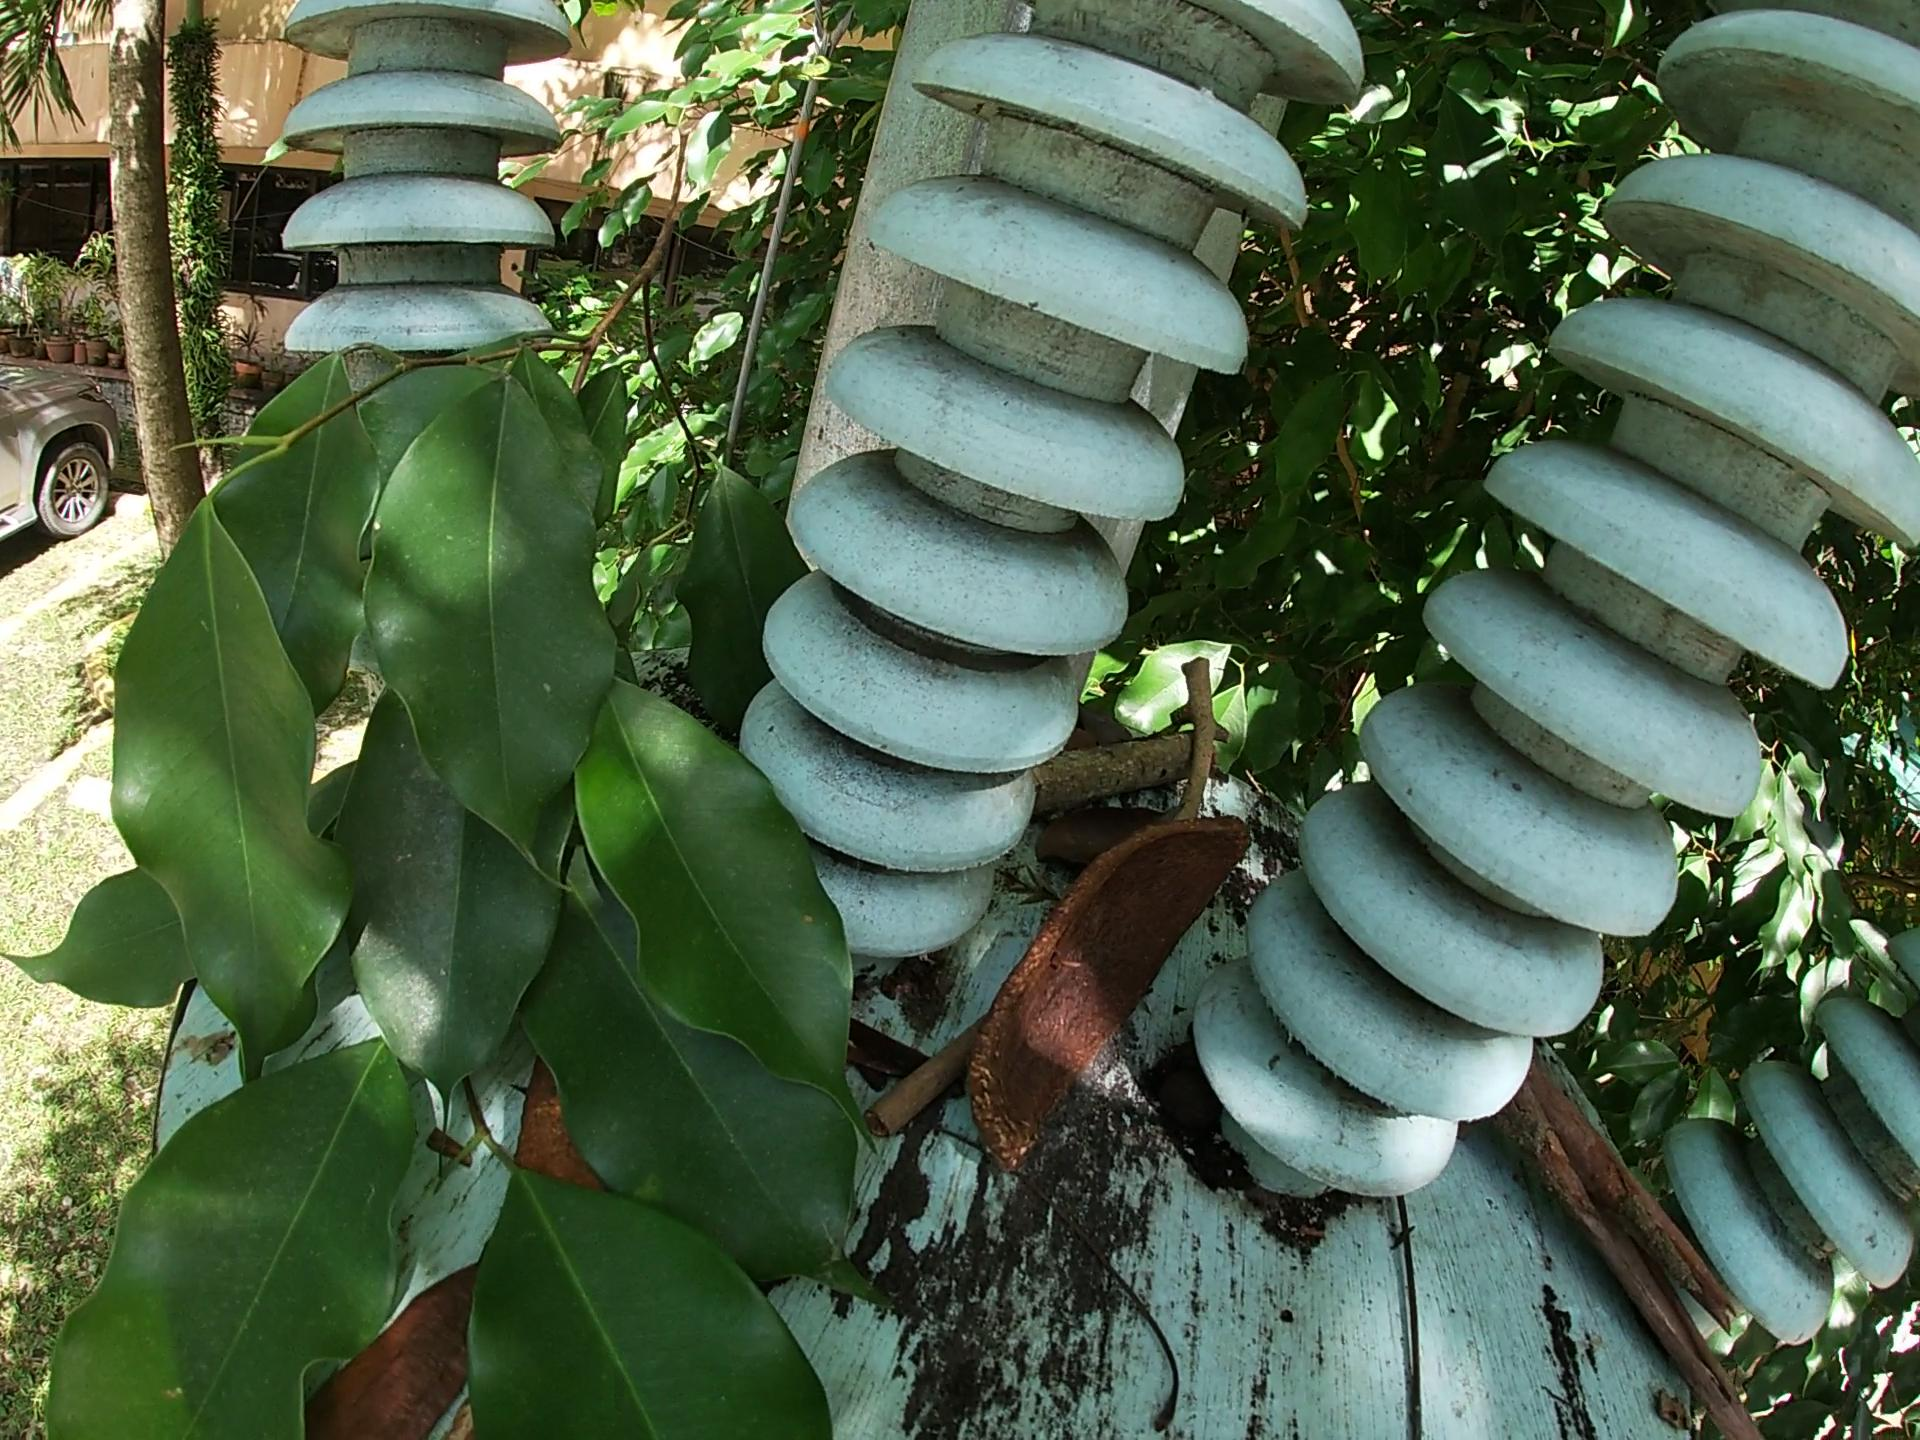branch with leaves: (2, 103, 912, 1440)
mahogany fruit: (974, 793, 1271, 1178), (302, 1268, 478, 1416), (500, 1054, 612, 1193)
tree branch: (1485, 1047, 1801, 1437), (1027, 1174, 1212, 1438), (1011, 725, 1208, 805), (1385, 1177, 1438, 1435), (866, 1035, 980, 1142), (1182, 658, 1222, 835)
